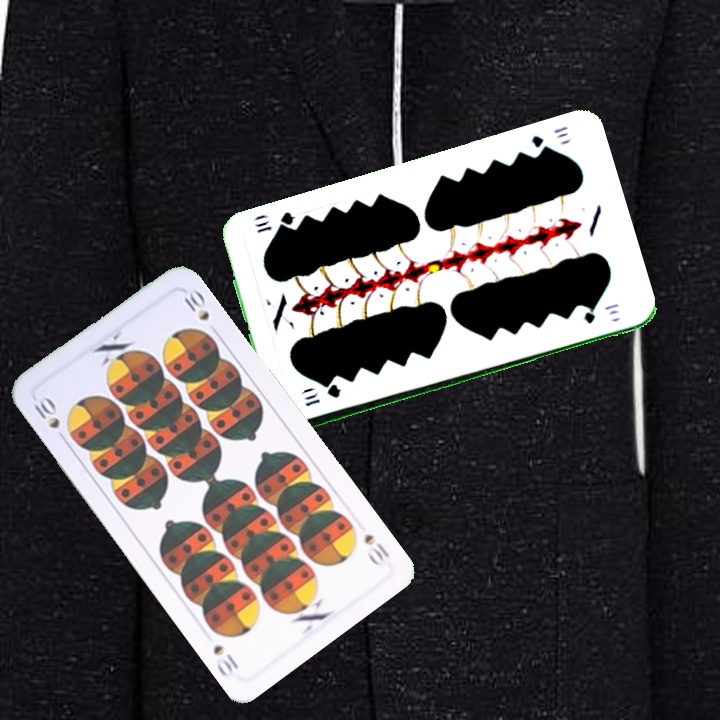G10: (527, 121, 570, 157), (300, 383, 343, 409)
S10: (29, 391, 70, 445), (359, 529, 392, 569)
